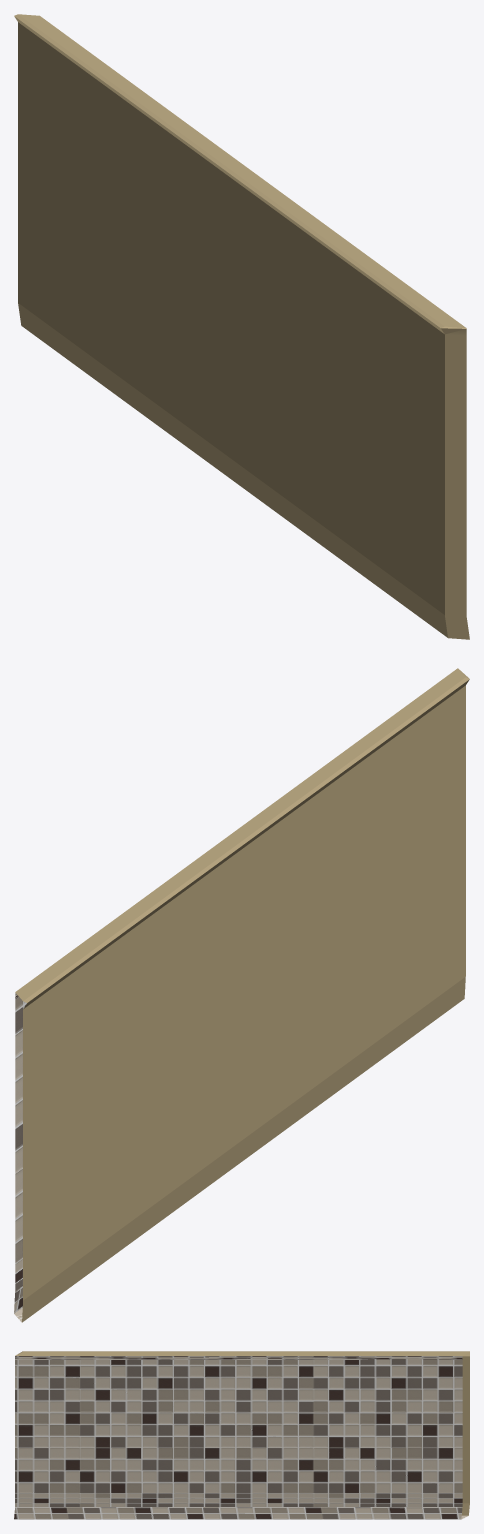
The model's file is FP425:polySurface110_0e4fbf7d.obj.
3 renders of one model, top to bottom at view 1: azimuth 30°, elevation 25°; view 2: azimuth 150°, elevation 25°; view 3: azimuth 270°, elevation 25°, orthographic. The views are drawn at different scales.
Visible parts, largest first — view 1: FP425:polySurface110_0e4fbf7d; view 2: FP425:polySurface110_0e4fbf7d; view 3: FP425:polySurface110_0e4fbf7d.
Boxes of the visible parts, <box> form: FP425:polySurface110_0e4fbf7d: <box>14,14,469,639</box>; FP425:polySurface110_0e4fbf7d: <box>14,668,469,1322</box>; FP425:polySurface110_0e4fbf7d: <box>14,1351,469,1519</box>.
Size of the model in its own units: 0.084 by 1.19 by 3.01.
